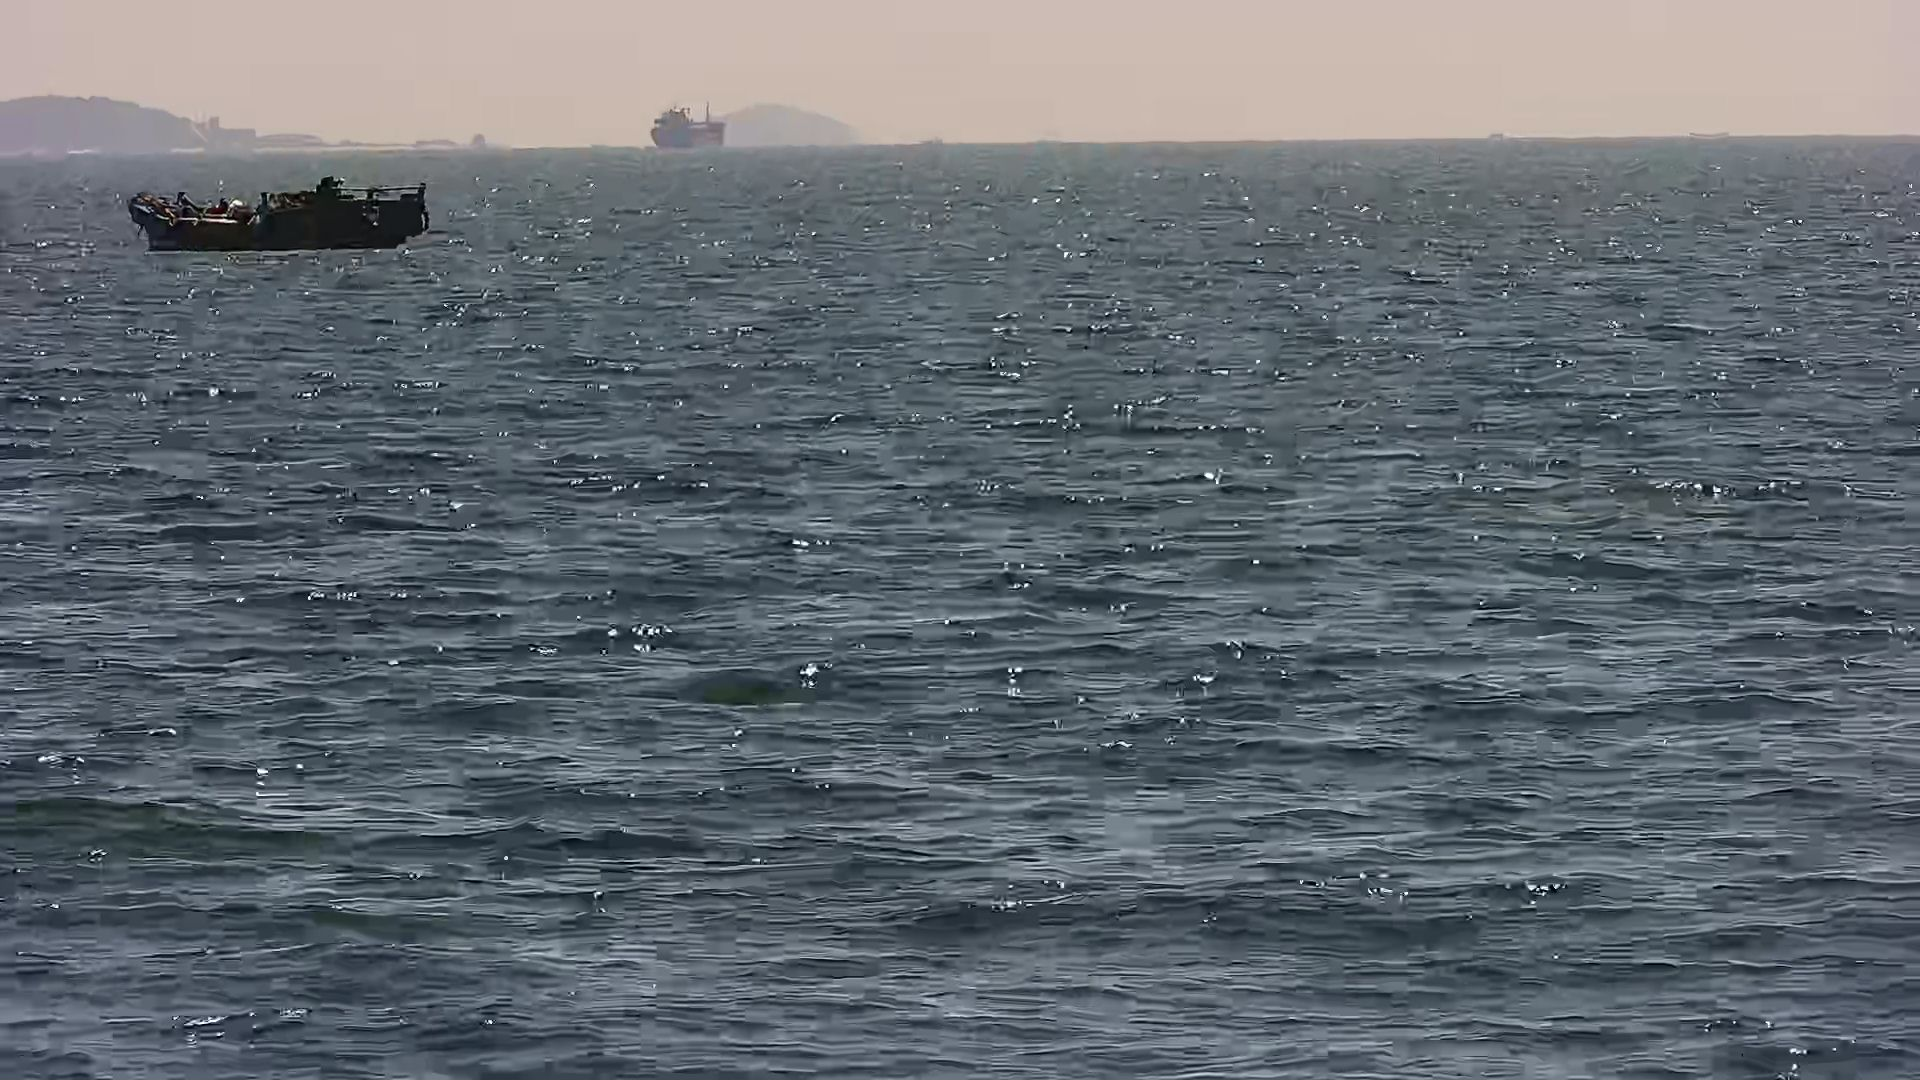boat: (128, 175, 433, 251)
rock: (708, 109, 876, 148)
ship: (651, 103, 729, 152)
